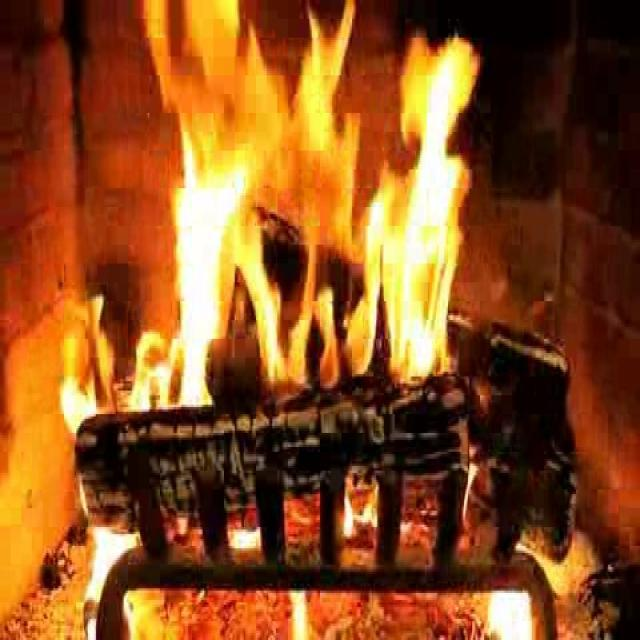Fire: (150, 19, 485, 417)
